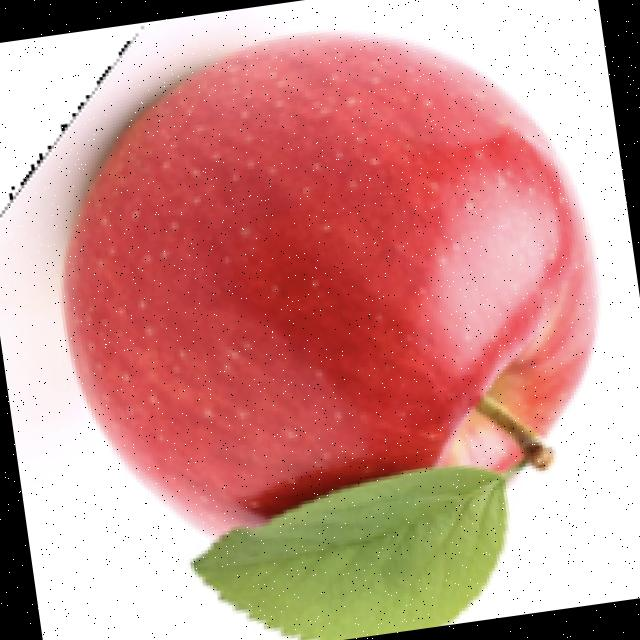apple: (30, 28, 604, 640)
